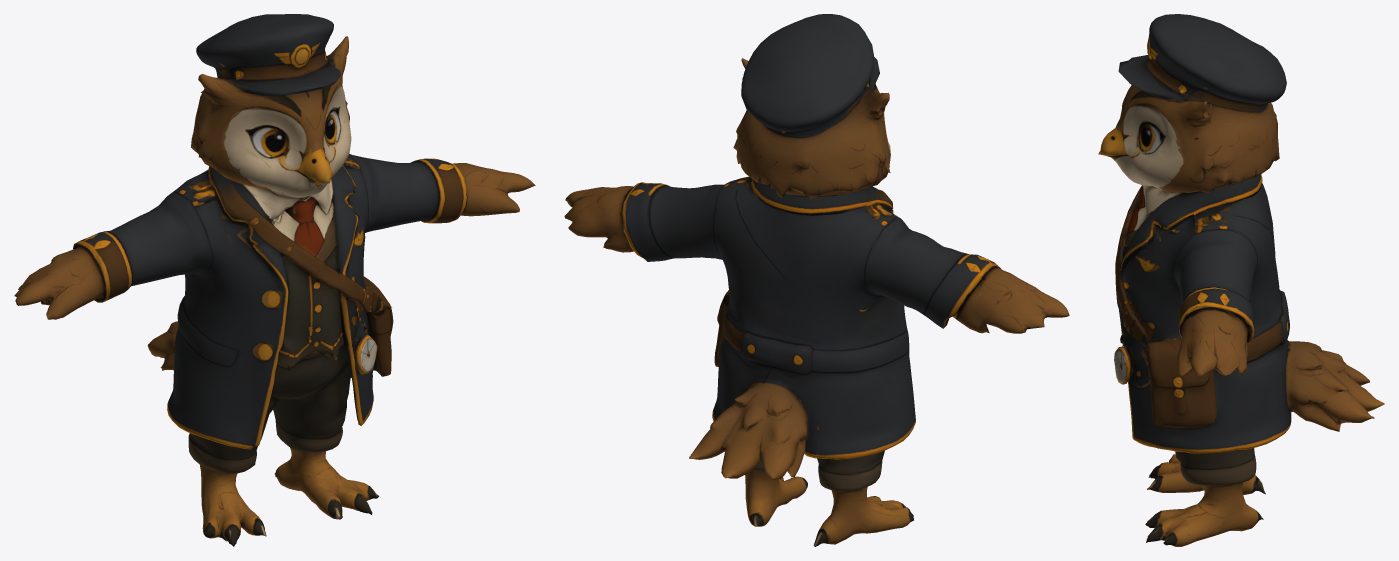
The model's file is horace_pennyfeather_generated_v1.glb.
3 views of the same model, side by side, from view 1: azimuth 30°, elevation 25°; view 2: azimuth 150°, elevation 25°; view 3: azimuth 270°, elevation 25° (orthographic). The views are drawn at different scales.
Parts seen in each view (by area): view 1: tripo_node_beaf6ed6; view 2: tripo_node_beaf6ed6; view 3: tripo_node_beaf6ed6.
Part boxes in pixels (x1,y1,x2,y2): tripo_node_beaf6ed6: (14,14,535,546); tripo_node_beaf6ed6: (564,14,1069,546); tripo_node_beaf6ed6: (1098,14,1384,546).
Size of the model in its own units: 0.983 by 0.9092 by 0.4832.
Materials: 1 (1 with a texture image).
